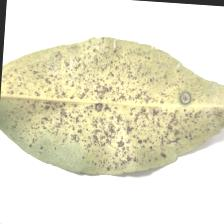canker: (16, 52, 198, 164)
